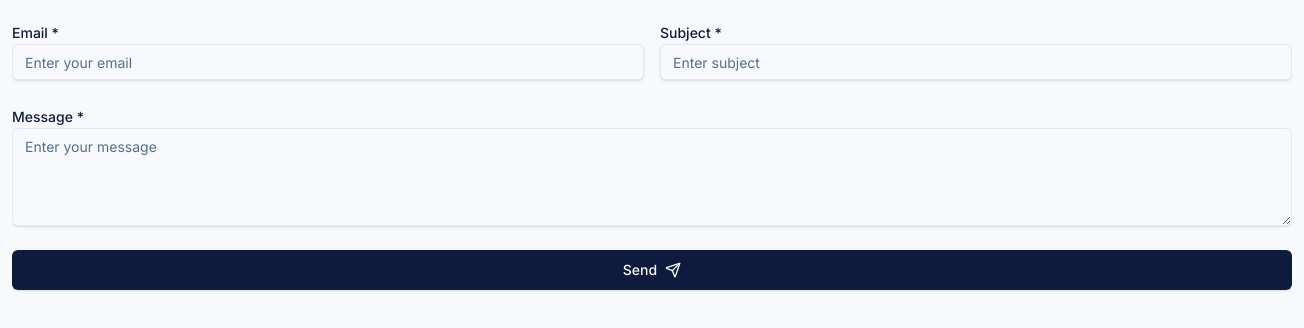
Test case: ContactForm.tsx - ContactForm Component › Form Submission Tests › TC14: Should show error message on error response
The width and height of the screenshot is (1304, 328).
Type "test@example.com" into the field with placeholder "Enter your email" at (328, 62), box [12, 44, 644, 80]
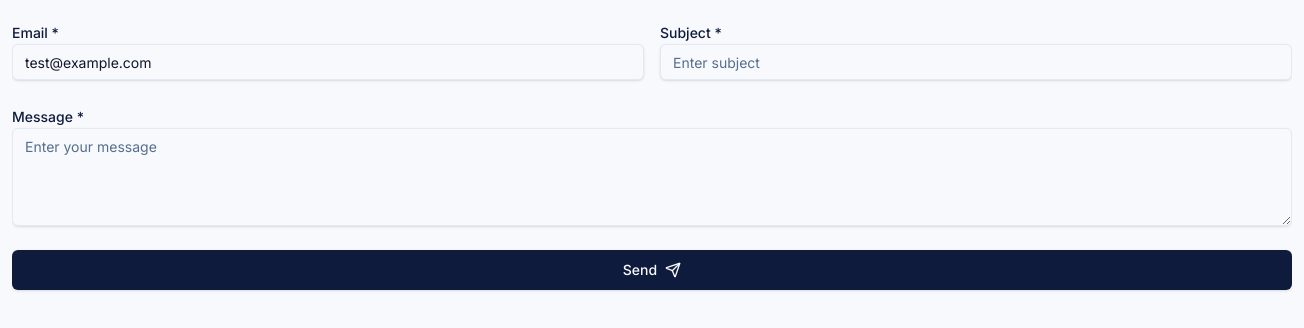
Submit the form
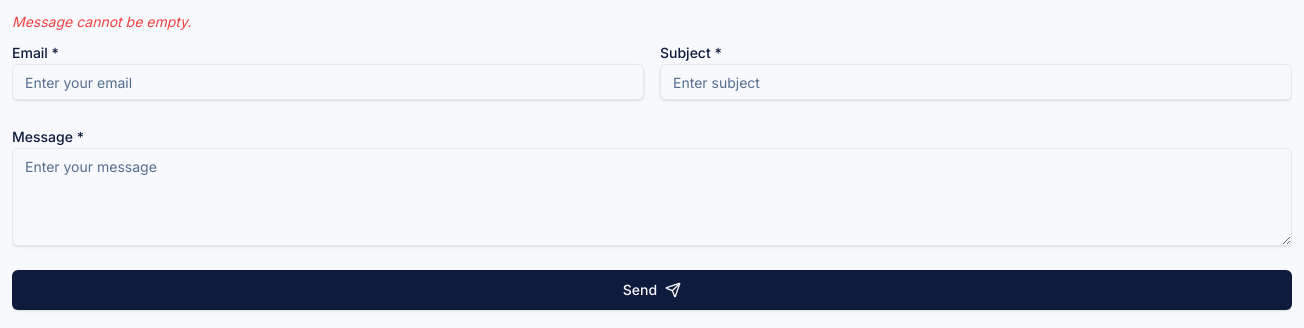
Result: the text "Message cannot be empty." is shown at [12, 13, 191, 30]
